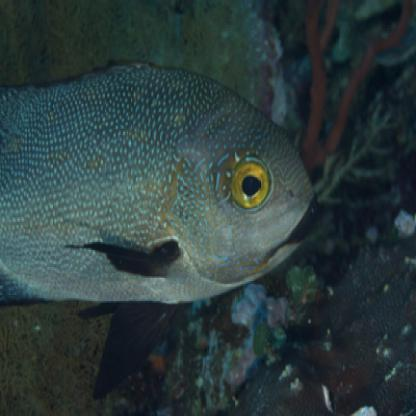Lutjanidae -Snappers-: (1, 43, 329, 404)
